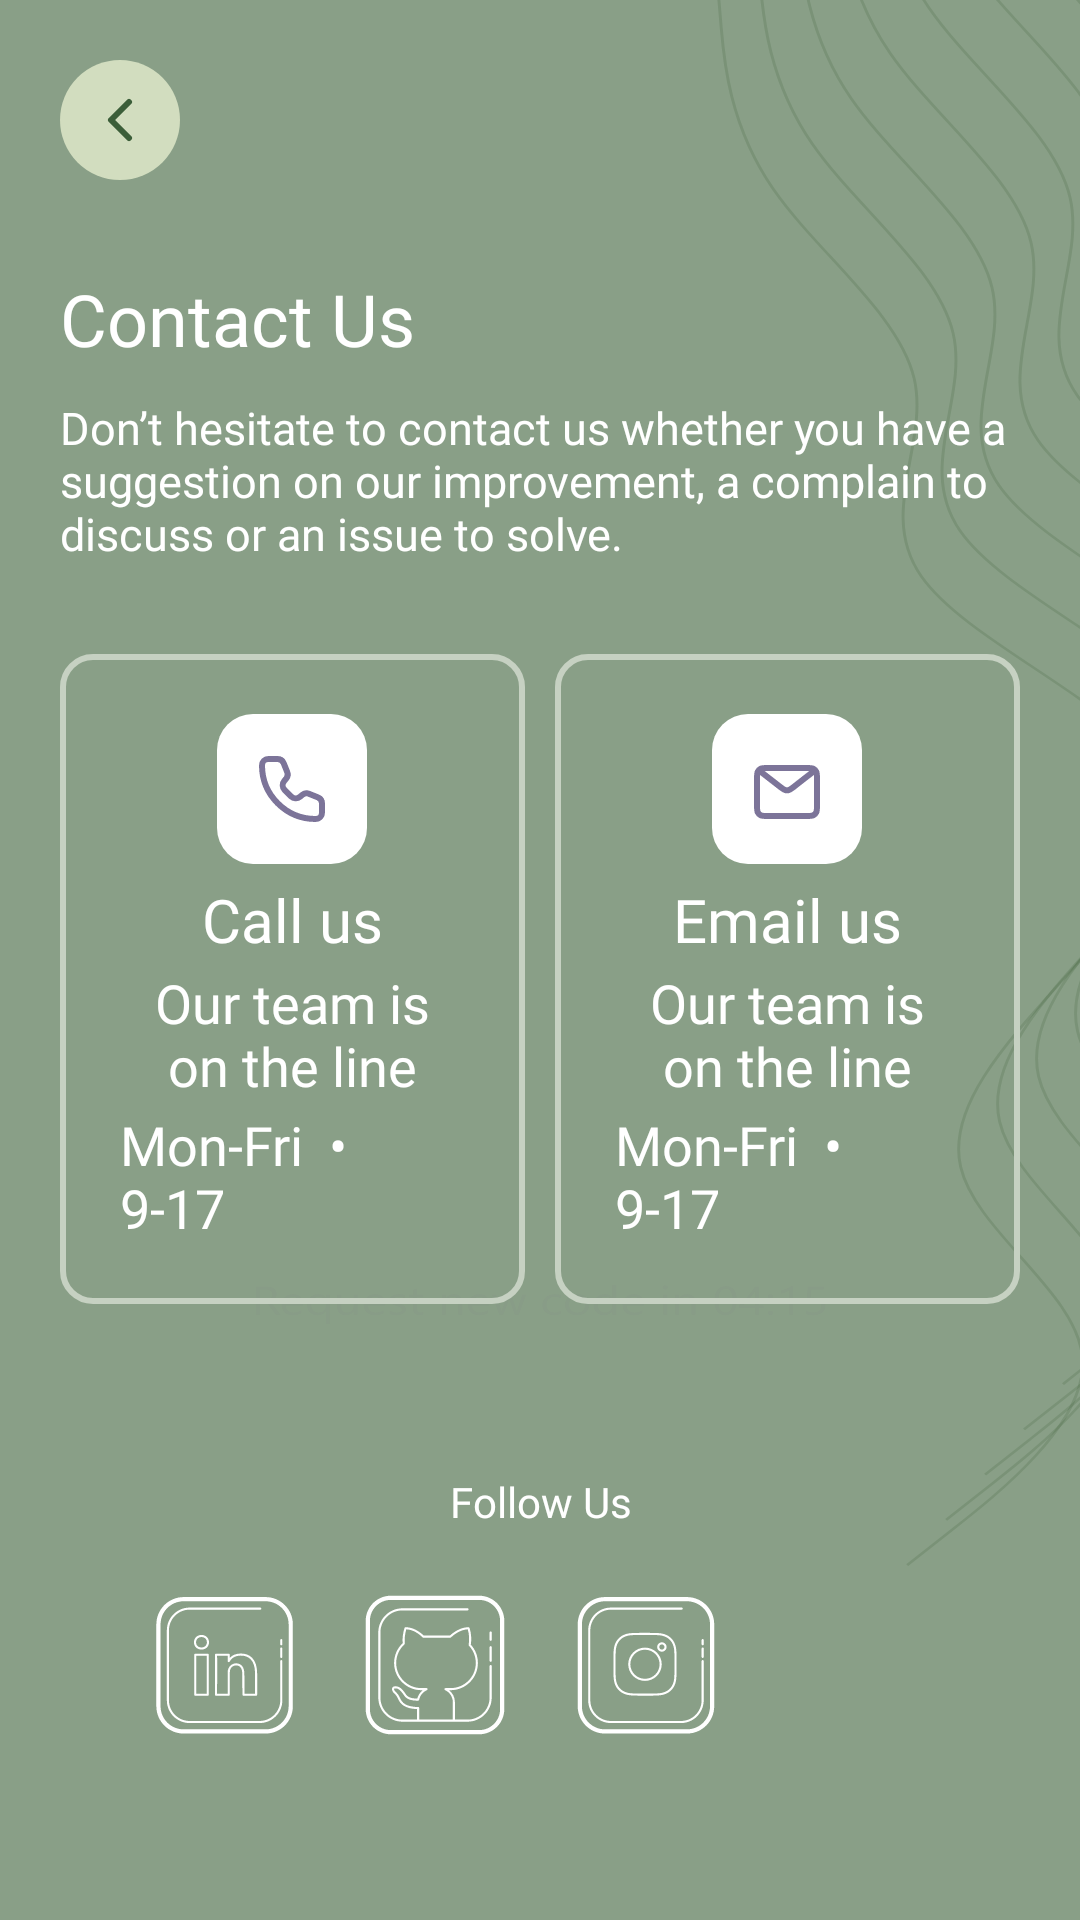

Screen size 1080px x 1920px. Icon name, then its box in pixels as [x1, y1, x2, y2]:
back arrow: [60, 60, 180, 180]
